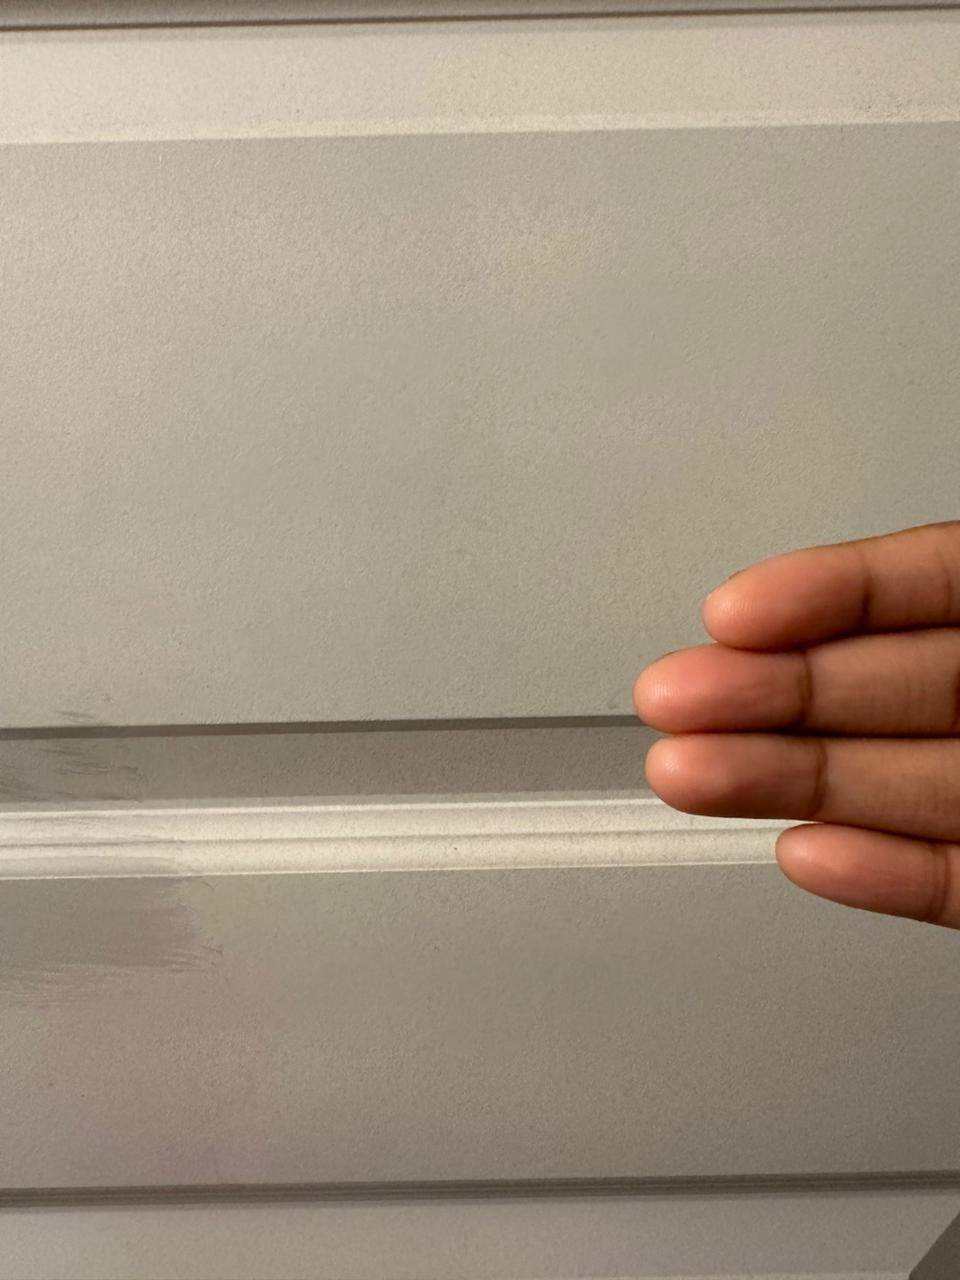finger: (684, 541, 865, 651), (627, 738, 829, 830), (767, 826, 942, 927), (623, 648, 815, 735)
